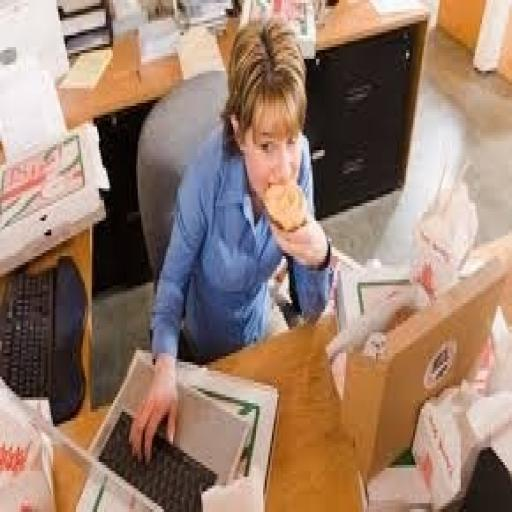eating: (127, 15, 336, 462)
